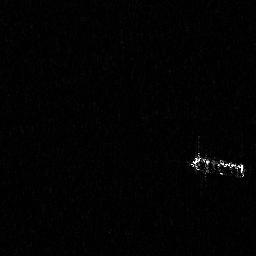ship: (186, 148, 247, 183)
